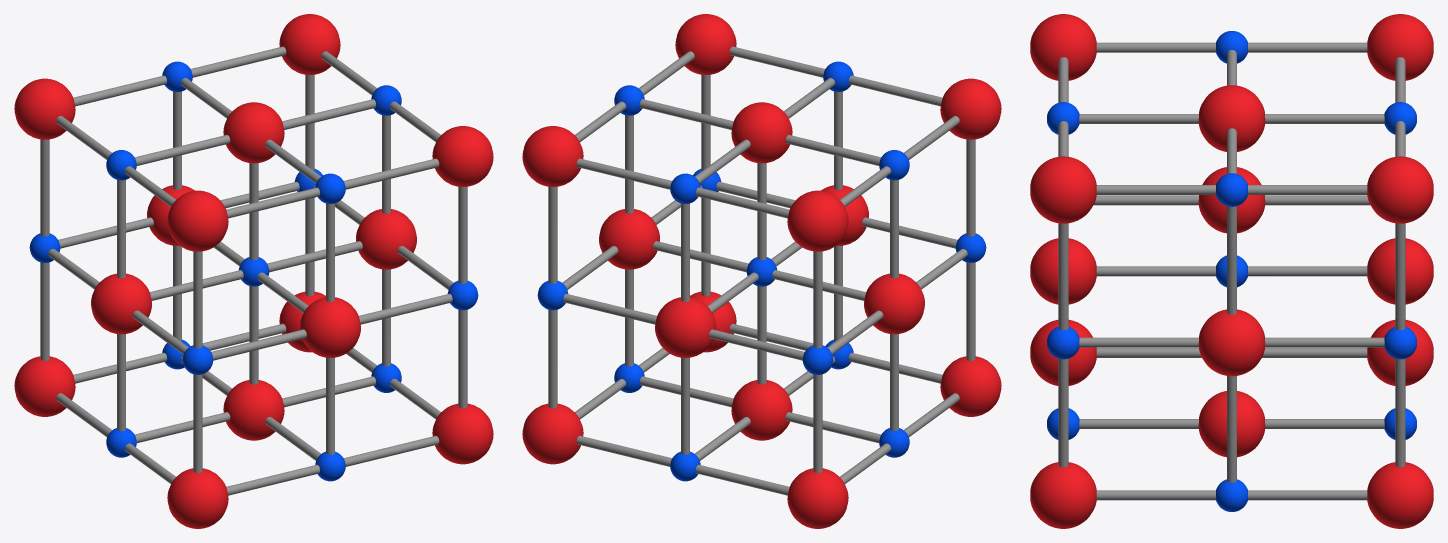
The model's file is CdO.FBX.
3 views of the same model, side by side, from view 1: azimuth 30°, elevation 25°; view 2: azimuth 150°, elevation 25°; view 3: azimuth 270°, elevation 25° (orthographic). The views are drawn at different scales.
Visible parts, largest first — view 1: Сферы_Node (×25), Цилиндр_Node (×50); view 2: Сферы_Node (×25), Цилиндр_Node (×50); view 3: Сферы_Node (×24), Цилиндр_Node (×26).
Boxes of the visible parts, x1,y1,x2,y2 form: Сферы_Node (×25): (14, 14, 493, 528); Цилиндр_Node (×50): (40, 46, 467, 495); Сферы_Node (×25): (522, 14, 1001, 528); Цилиндр_Node (×50): (548, 46, 975, 495); Сферы_Node (×24): (1030, 14, 1433, 528); Цилиндр_Node (×26): (1058, 42, 1405, 500).
Size of the model in its own units: 4.72 by 4.72 by 4.72.
Materials: 56 (2 with a texture image).
